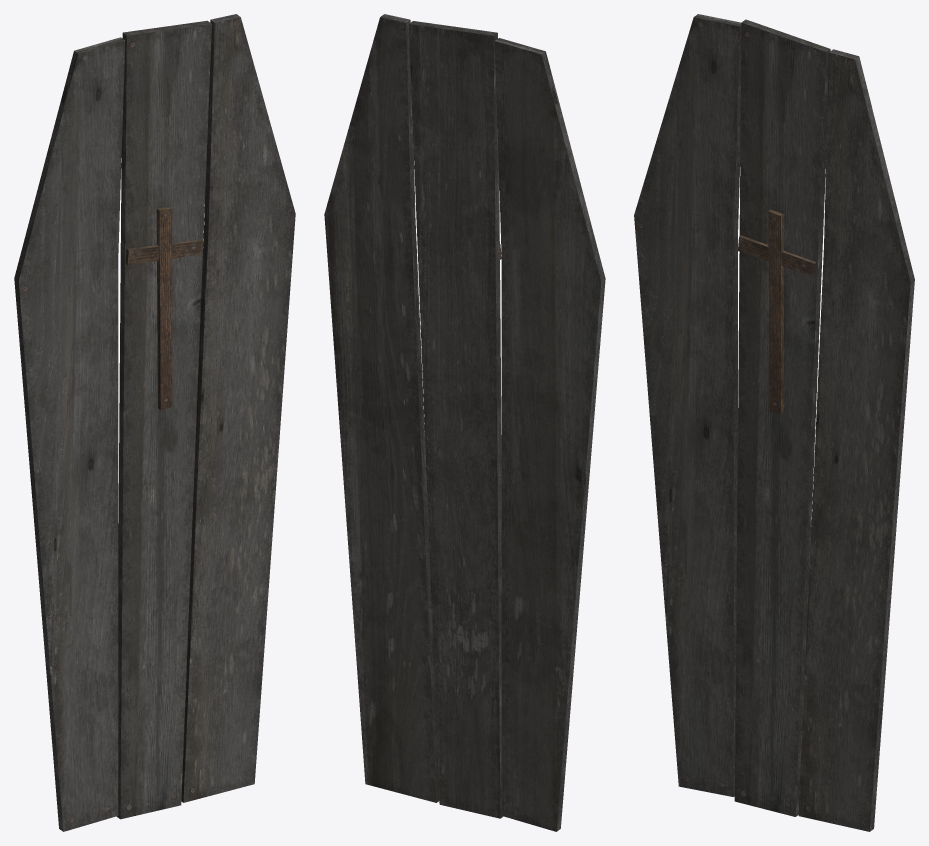
File: SM_coffin_02.fbx
3 views of the same model, side by side, from view 1: azimuth 30°, elevation 25°; view 2: azimuth 150°, elevation 25°; view 3: azimuth 330°, elevation 25° (orthographic).
Visible parts, largest first — view 1: SM_coffin_02_LOD0; view 2: SM_coffin_02_LOD0; view 3: SM_coffin_02_LOD0.
Part boxes in pixels (bbox=[...]): SM_coffin_02_LOD0: bbox=[14, 14, 295, 831]; SM_coffin_02_LOD0: bbox=[324, 14, 605, 831]; SM_coffin_02_LOD0: bbox=[634, 14, 914, 831].
Bounding box in the file's own units: 73.88 × 3.49 × 199.
1 material, 1 textured.
